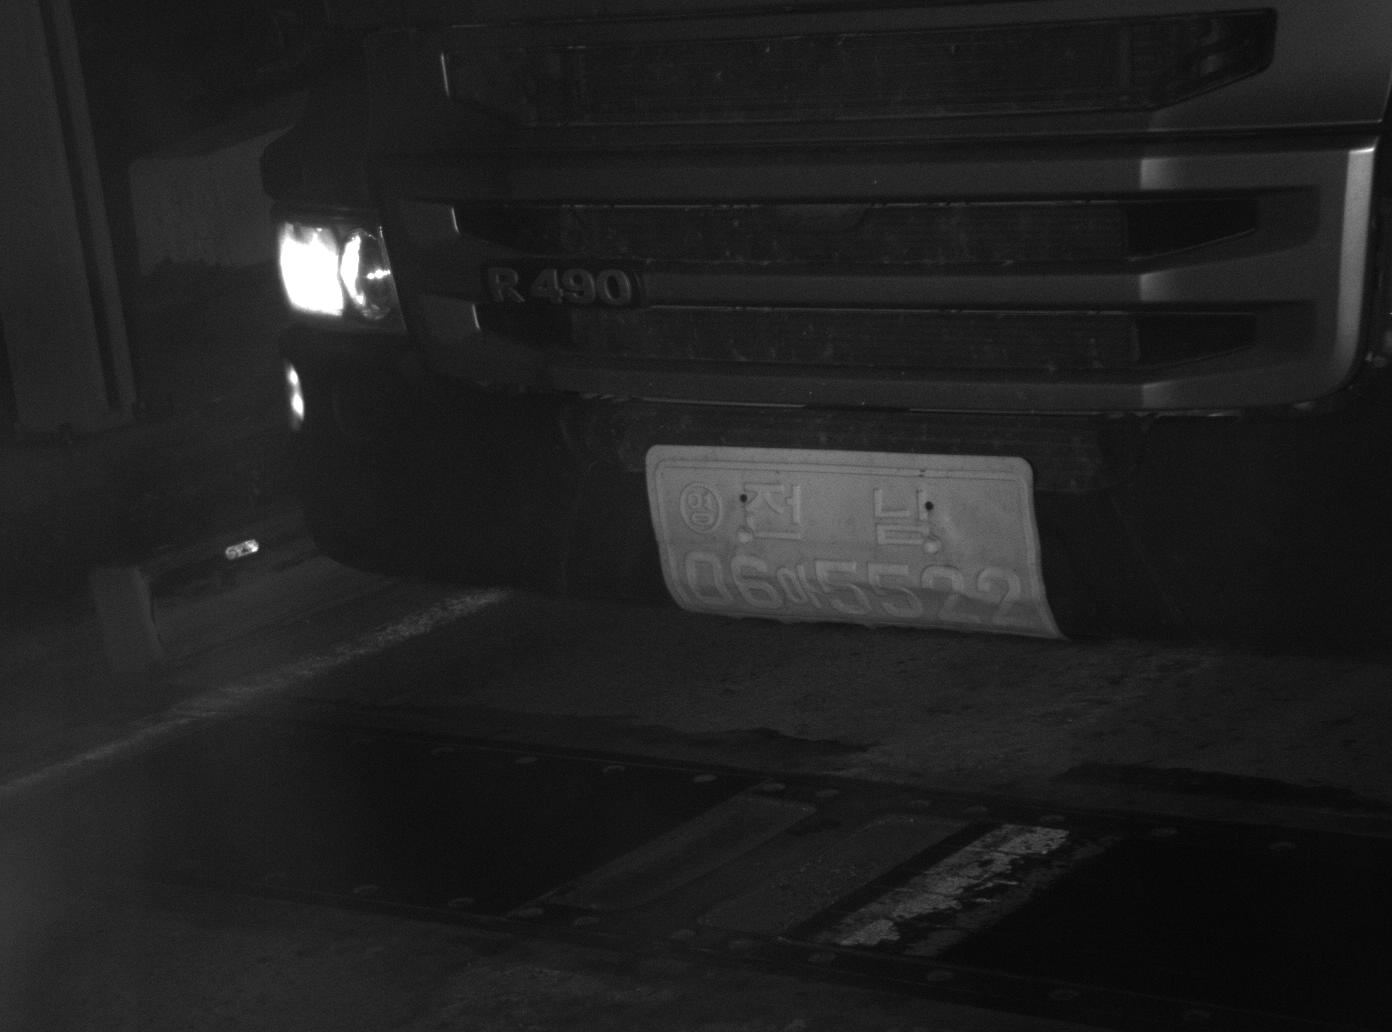car: (246, 4, 1392, 656)
plate: (639, 438, 1071, 645)
